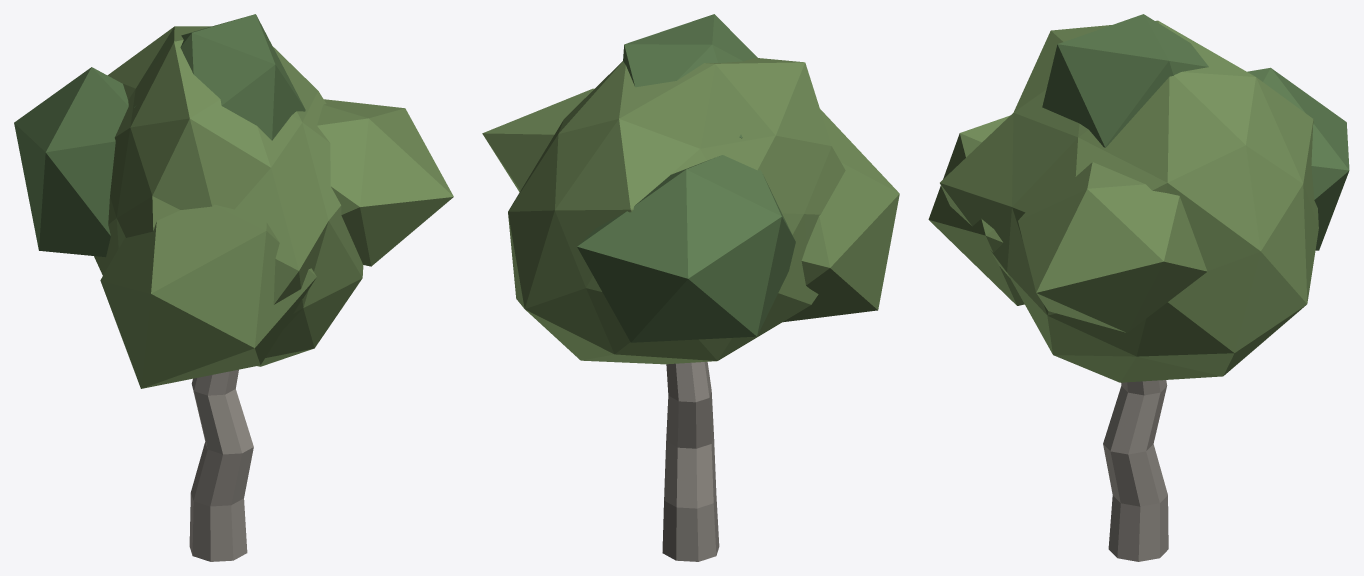
Rendered from v_tree_oak.glb.
The picture shows the model from 3 angles, left to right: view 1: azimuth 30°, elevation 25°; view 2: azimuth 150°, elevation 25°; view 3: azimuth 270°, elevation 25°; orthographic projection. The views are drawn at different scales.
Visible parts, largest first — view 1: Oak; view 2: Oak; view 3: Oak.
Part boxes in pixels (x1=…): Oak: x1=14, y1=14, x2=453, y2=561; Oak: x1=482, y1=14, x2=899, y2=561; Oak: x1=928, y1=14, x2=1349, y2=561.
Size of what is drawn, in the model's own units: 4.98 by 7.3 by 5.32.
